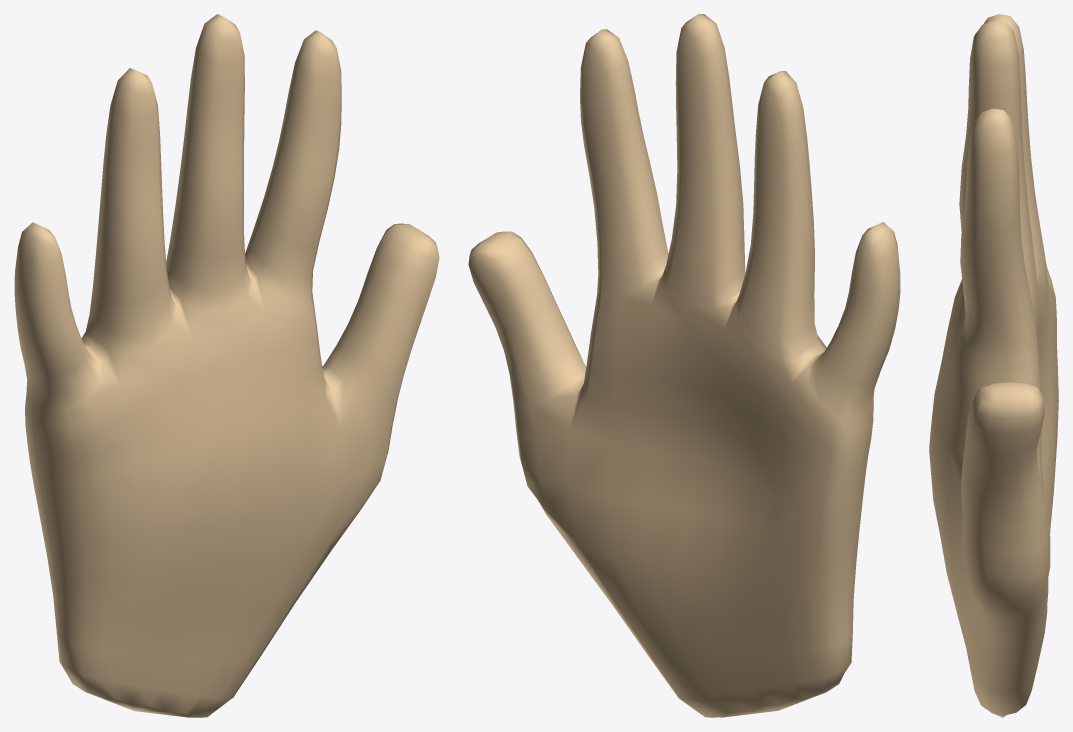
Rendered from mana.fbx.
3 views of the same model, side by side, from view 1: azimuth 30°, elevation 25°; view 2: azimuth 150°, elevation 25°; view 3: azimuth 270°, elevation 25° (orthographic).
Parts seen in each view (by area): view 1: arm; view 2: arm; view 3: arm.
Part boxes in pixels (box(x1,y1,x2,y2)): arm: box(14, 14, 439, 717); arm: box(468, 14, 900, 717); arm: box(929, 14, 1058, 717).
Size of the model in its own units: 399 by 639 by 107.
